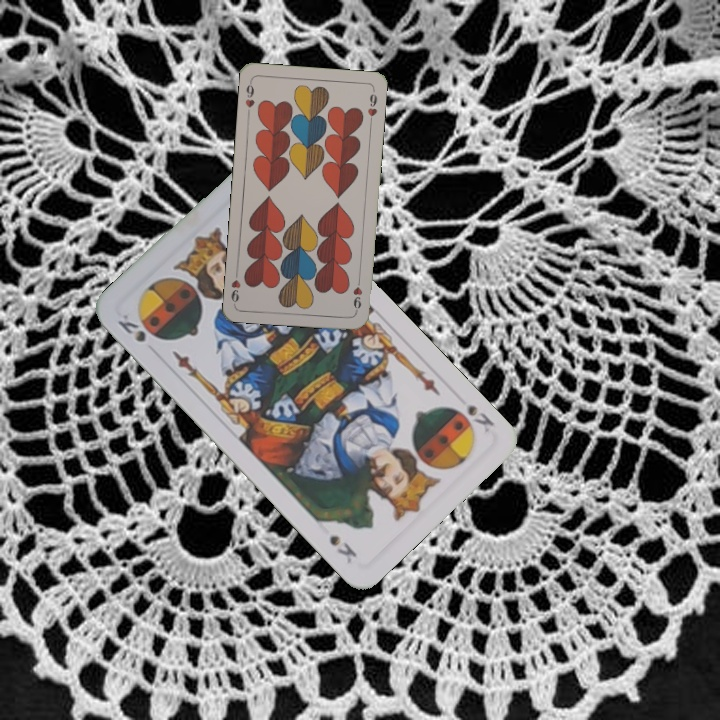H9: (241, 77, 257, 118), (349, 274, 365, 315)
SK: (113, 309, 149, 345), (463, 400, 497, 436)
